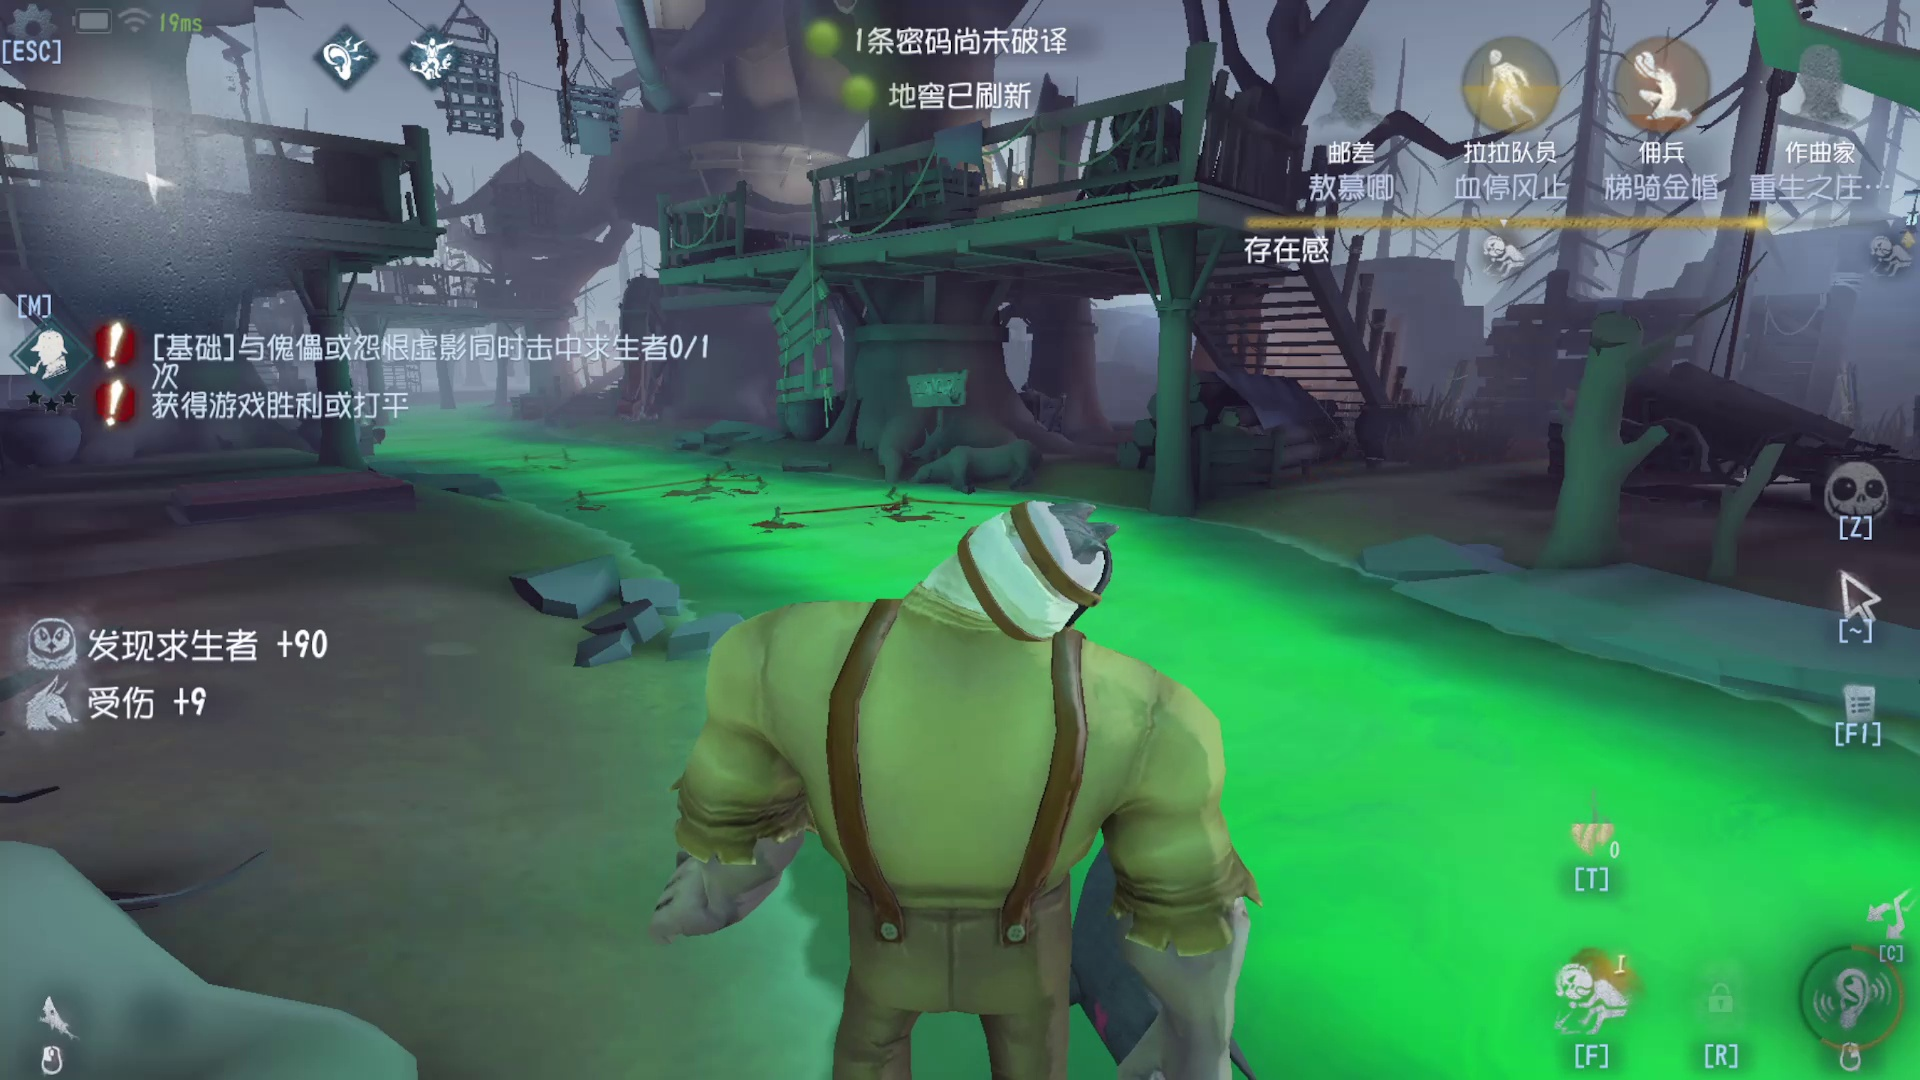脚印: (625, 440, 836, 549), (829, 452, 976, 541)
